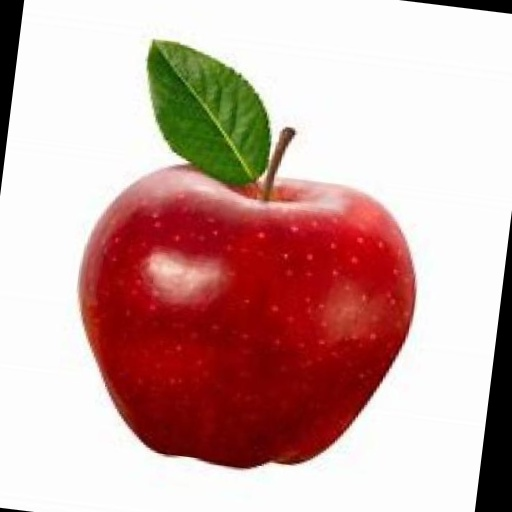fruit: (80, 168, 414, 467)
